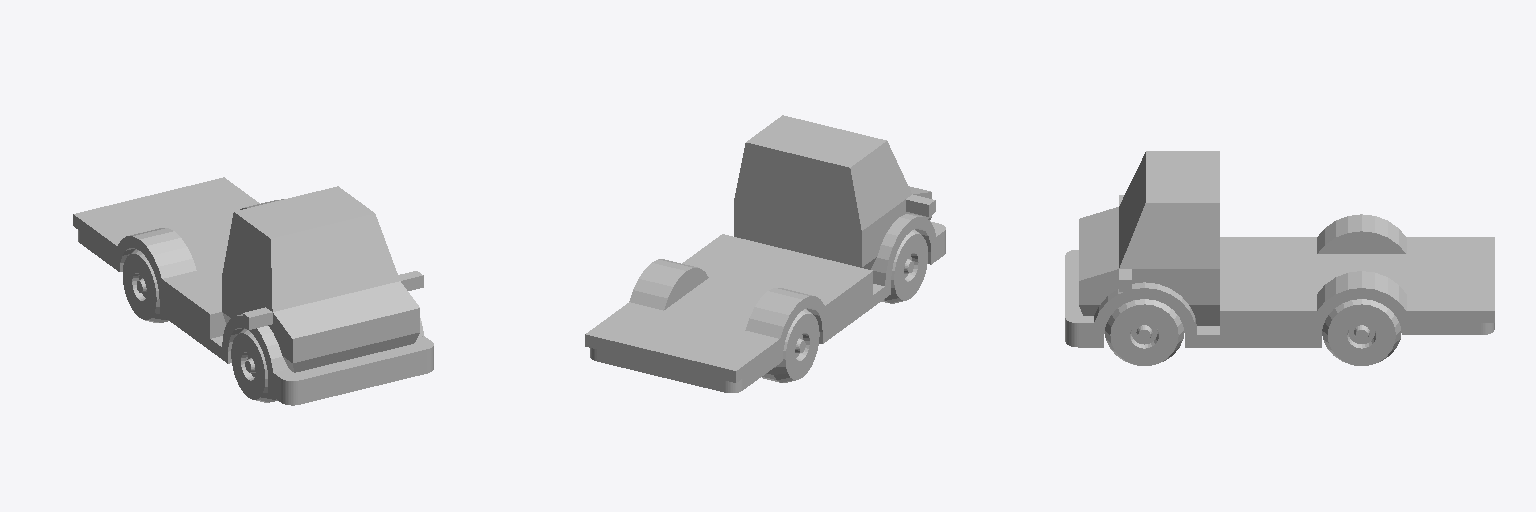
Rendered from deliveryFlat.obj.
3 renders of one model, left to right at view 1: azimuth 30°, elevation 25°; view 2: azimuth 150°, elevation 25°; view 3: azimuth 270°, elevation 25°, orthographic.
Visible parts, largest first — view 1: body, wheel_frontRight, wheel_backRight; view 2: body, wheel_backRight, wheel_frontRight; view 3: body, wheel_frontLeft, wheel_backLeft.
Boxes of the visible parts, <box> form: body: <box>73,177,433,405</box>; wheel_frontRight: <box>231,328,277,402</box>; wheel_backRight: <box>123,249,168,322</box>; body: <box>585,115,945,392</box>; wheel_backRight: <box>762,309,819,382</box>; wheel_frontRight: <box>881,229,927,303</box>; body: <box>1065,151,1494,347</box>; wheel_frontLeft: <box>1105,299,1183,365</box>; wheel_backLeft: <box>1322,299,1401,365</box>.
Size of the model in its own units: 1.12 by 0.975 by 2.4.